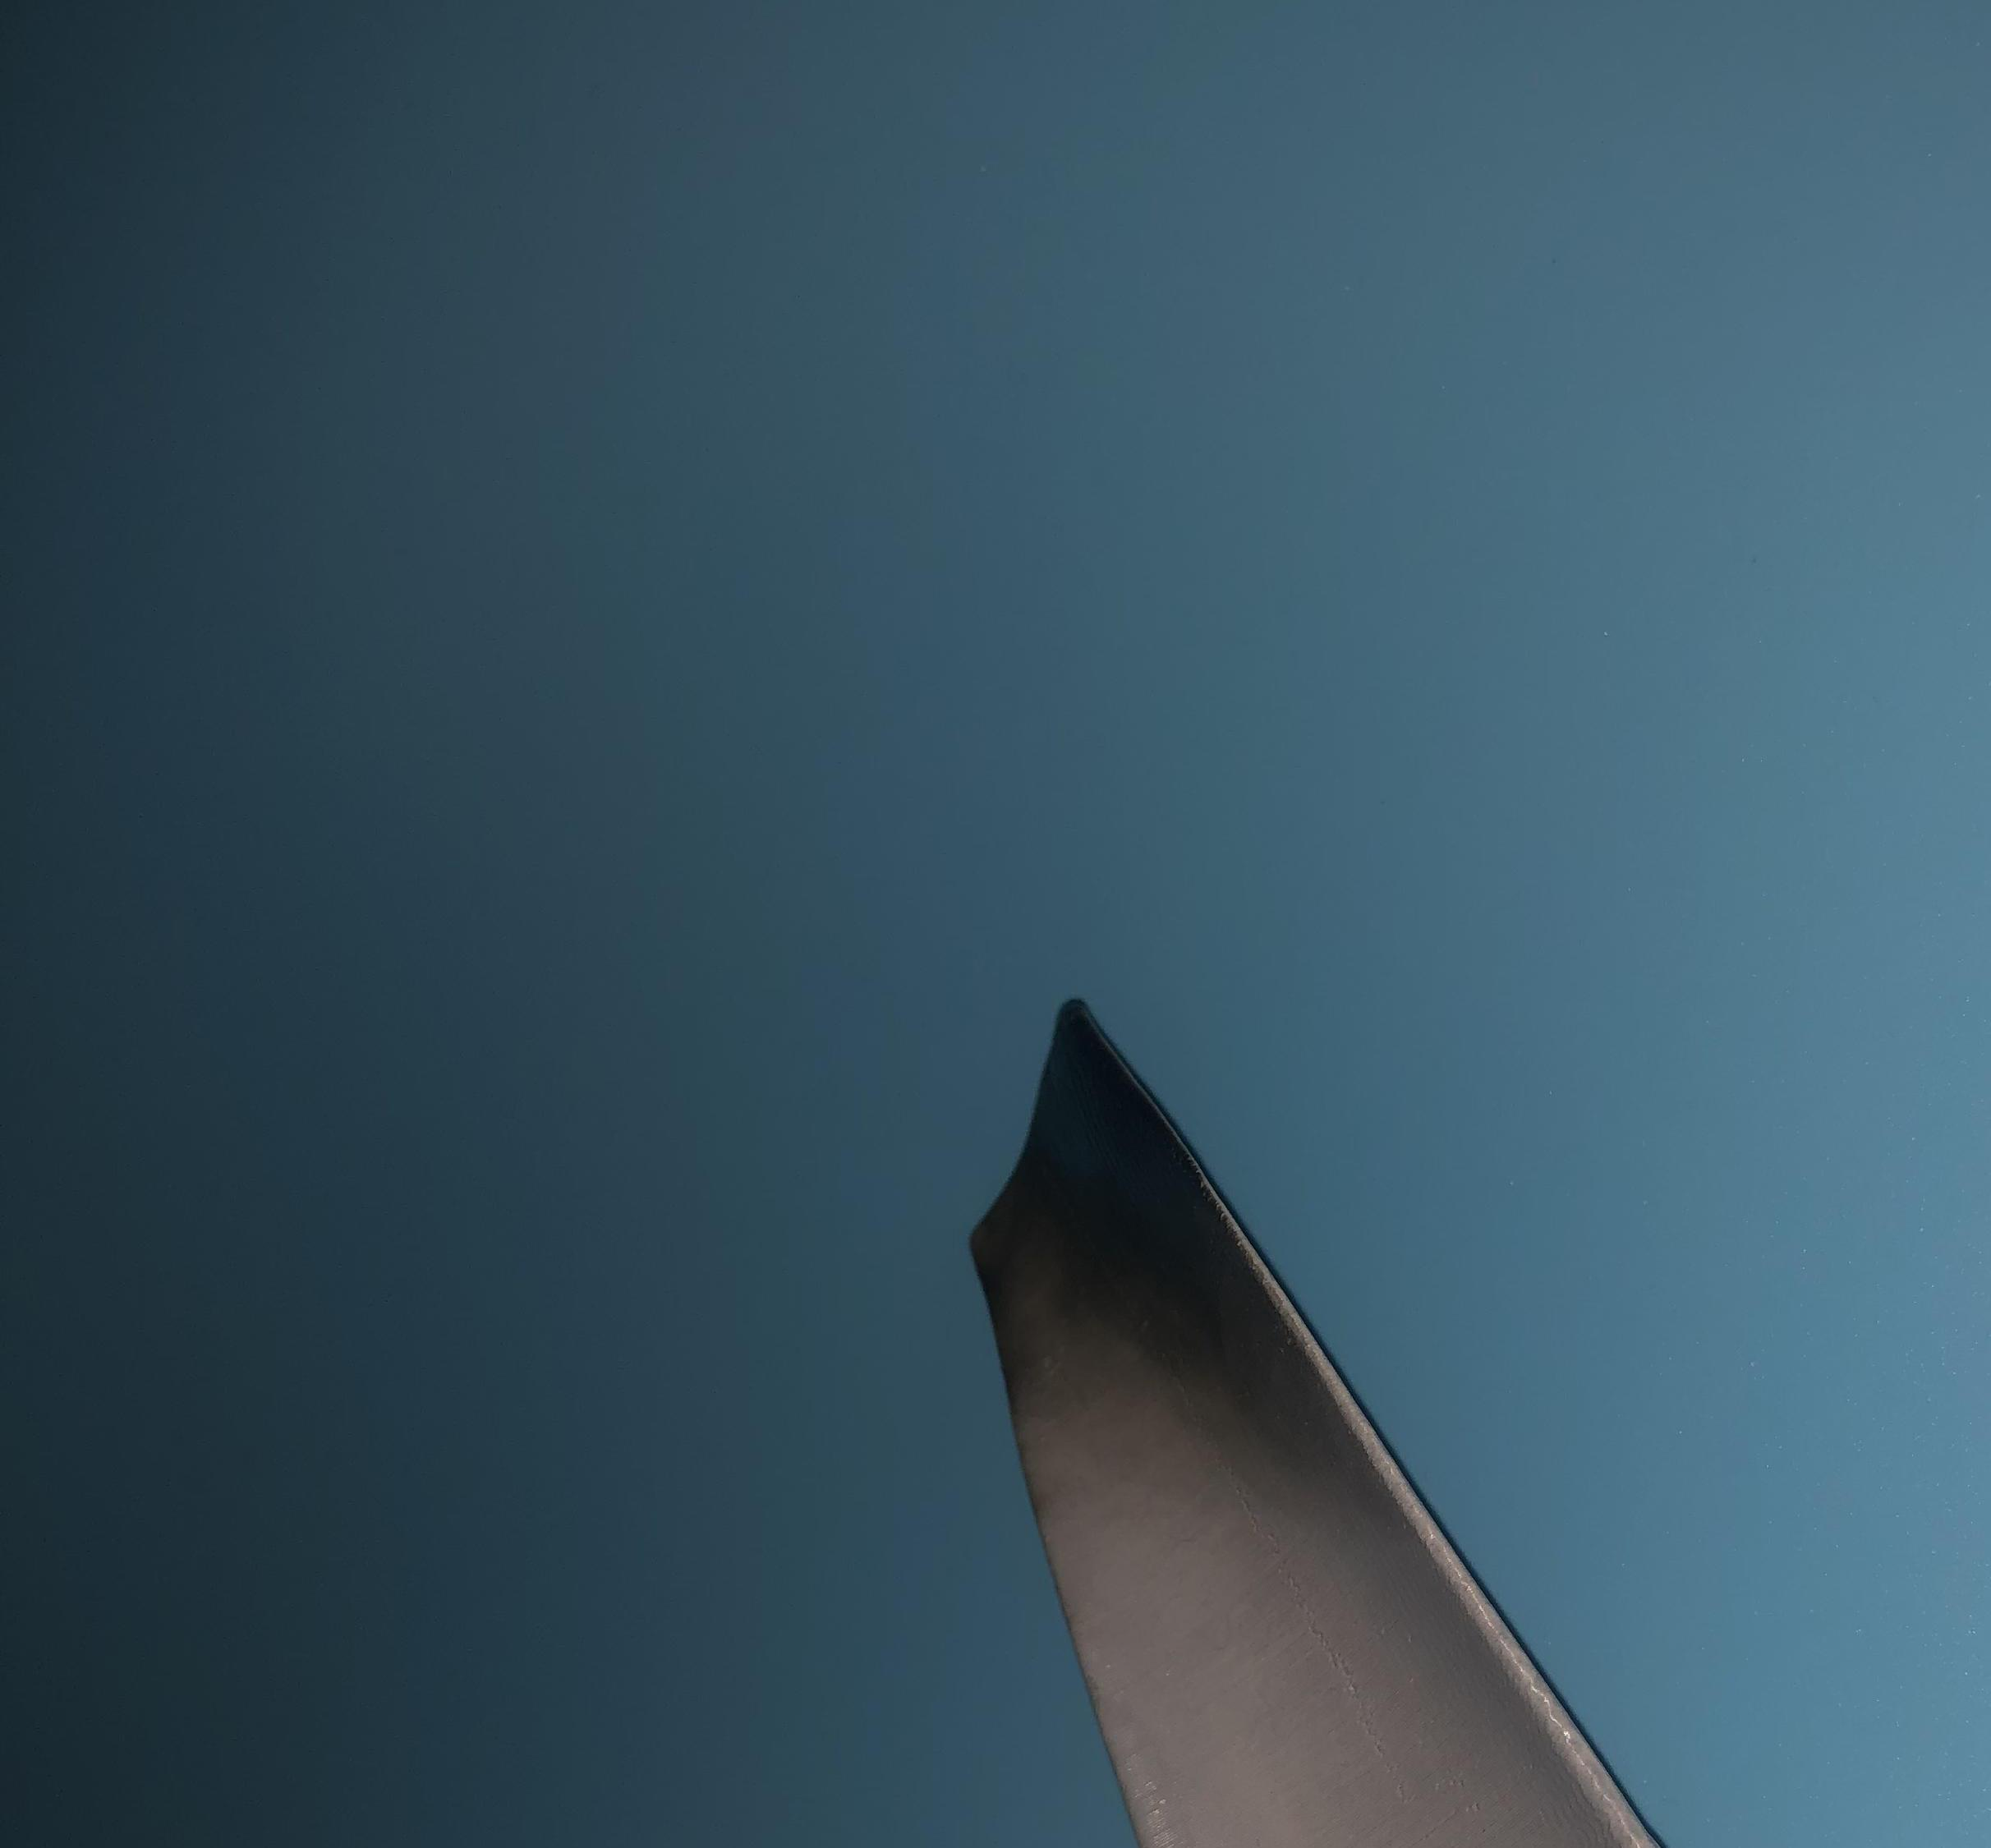ablation: (1006, 1077, 1282, 1403)
